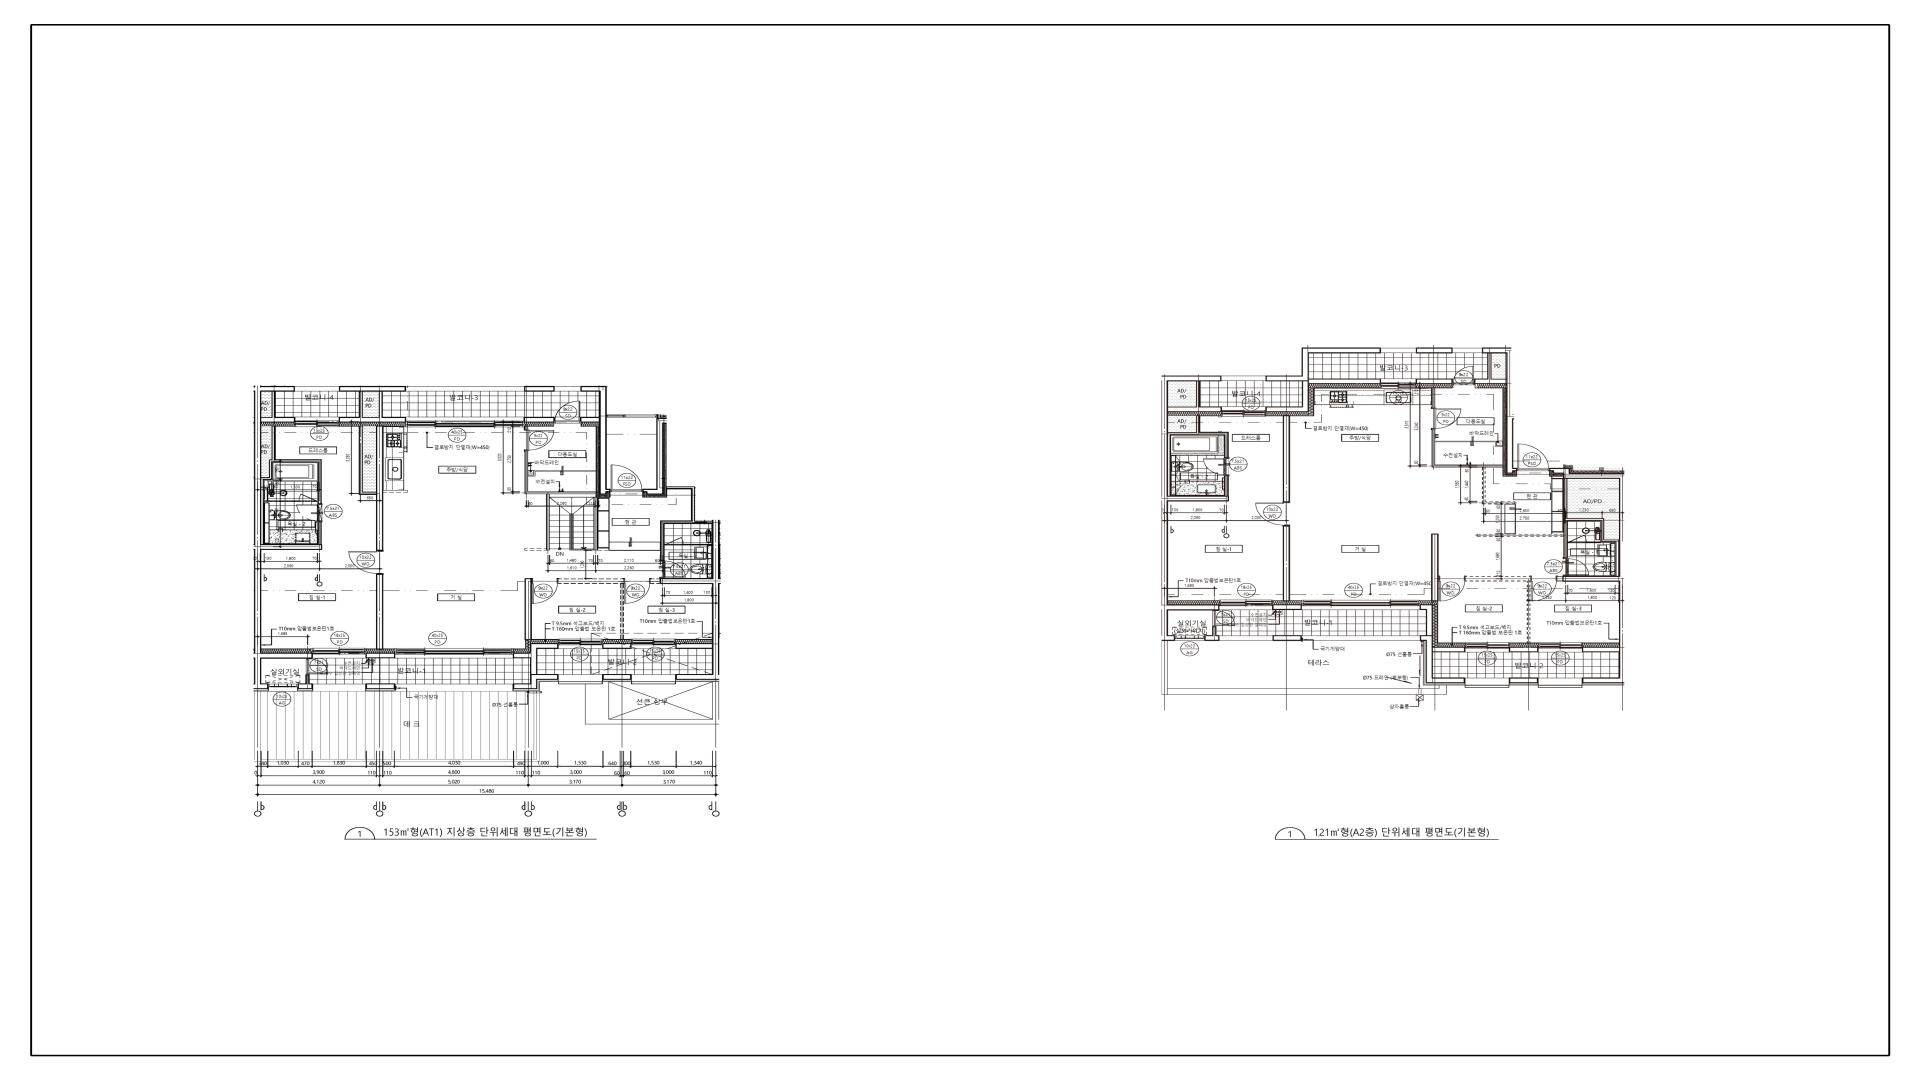door: (610, 465, 643, 492), (1517, 444, 1549, 471), (1256, 502, 1290, 526), (348, 551, 383, 574), (524, 429, 555, 451), (532, 578, 558, 604), (1530, 576, 1557, 601), (1439, 576, 1465, 601), (624, 579, 650, 604), (1431, 408, 1461, 429), (554, 401, 581, 423), (1563, 557, 1589, 576), (1203, 457, 1229, 476), (296, 504, 322, 522), (660, 561, 686, 578), (1453, 366, 1474, 385), (306, 658, 328, 675), (1212, 611, 1235, 627), (1568, 535, 1600, 543), (665, 537, 684, 545), (299, 494, 318, 502)
wall: (254, 386, 322, 689), (643, 414, 720, 680), (1161, 376, 1229, 641), (1549, 468, 1624, 684), (261, 426, 322, 544), (525, 451, 596, 550), (1474, 347, 1517, 474), (1466, 577, 1531, 643), (1265, 347, 1381, 382), (558, 579, 624, 639), (580, 386, 610, 494), (1567, 479, 1619, 540), (359, 426, 384, 551), (1432, 430, 1503, 467), (1420, 636, 1465, 684), (339, 392, 406, 422), (513, 644, 558, 674), (660, 521, 693, 561), (1265, 382, 1309, 412), (261, 392, 295, 422), (594, 497, 609, 550), (513, 674, 559, 689), (1283, 416, 1290, 502), (1431, 534, 1439, 601), (376, 574, 383, 650), (1283, 526, 1290, 602), (513, 680, 559, 691), (525, 578, 532, 640), (1419, 605, 1432, 636), (339, 386, 406, 392), (1492, 353, 1506, 379), (1309, 379, 1381, 383), (1416, 347, 1453, 354), (298, 675, 313, 689), (1204, 627, 1219, 641), (524, 386, 555, 392), (1416, 379, 1453, 384), (676, 644, 712, 649), (1272, 635, 1302, 641), (1509, 647, 1539, 653), (603, 643, 632, 649), (603, 674, 632, 680), (365, 684, 395, 689), (524, 417, 554, 422), (1272, 605, 1302, 610), (607, 414, 657, 417), (366, 653, 395, 658), (1509, 678, 1538, 683), (365, 689, 395, 692), (581, 417, 599, 422), (318, 522, 322, 544), (676, 680, 719, 682), (1432, 388, 1435, 408), (603, 680, 632, 682), (650, 579, 660, 584), (1557, 576, 1562, 582), (298, 689, 313, 691), (684, 544, 712, 545), (254, 689, 268, 691), (524, 427, 528, 429)
window: (1301, 600, 1420, 610), (395, 648, 513, 658), (406, 417, 524, 427), (395, 684, 513, 691), (406, 386, 524, 392), (1302, 636, 1420, 641), (1219, 600, 1272, 610), (313, 648, 366, 658), (1465, 643, 1510, 653), (631, 639, 676, 649), (558, 639, 603, 649), (1538, 643, 1582, 653), (1538, 678, 1582, 688), (1465, 678, 1509, 688), (632, 674, 676, 684), (559, 674, 603, 684), (295, 417, 339, 427), (1222, 407, 1265, 417), (313, 684, 366, 692), (1381, 379, 1416, 389), (1219, 636, 1272, 641), (295, 386, 339, 392), (1221, 376, 1265, 381), (268, 684, 298, 691), (1381, 348, 1416, 353), (555, 386, 581, 392), (1453, 348, 1482, 353), (1175, 636, 1204, 641)
